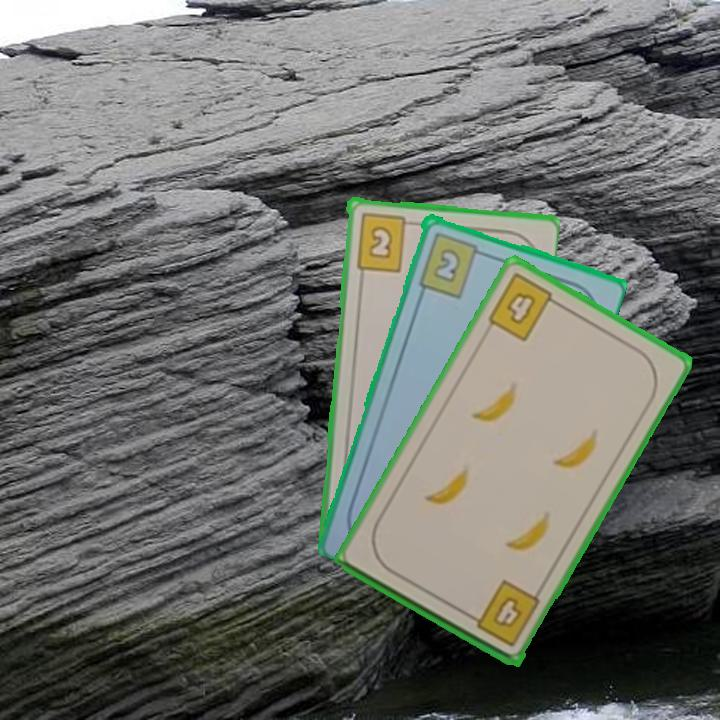2b: (414, 228, 489, 300), (352, 209, 418, 274)
4b: (484, 269, 564, 345), (463, 576, 543, 650)
